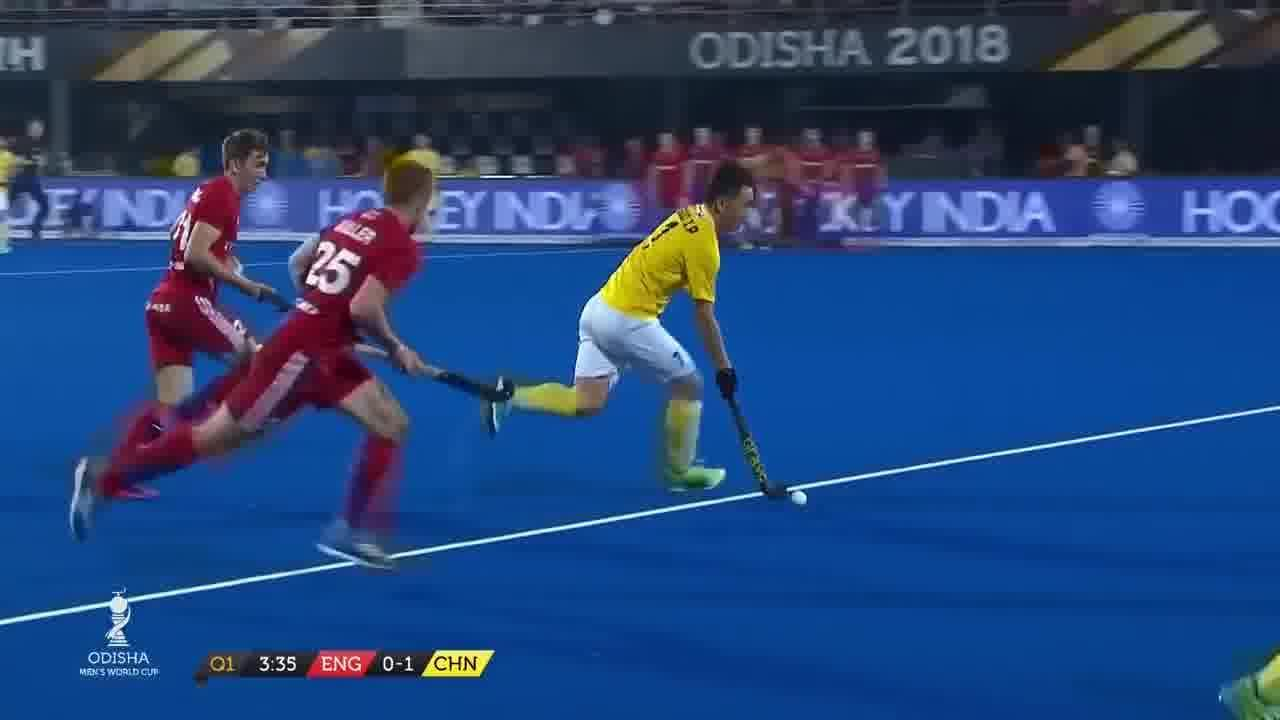ball: (790, 486, 810, 510)
